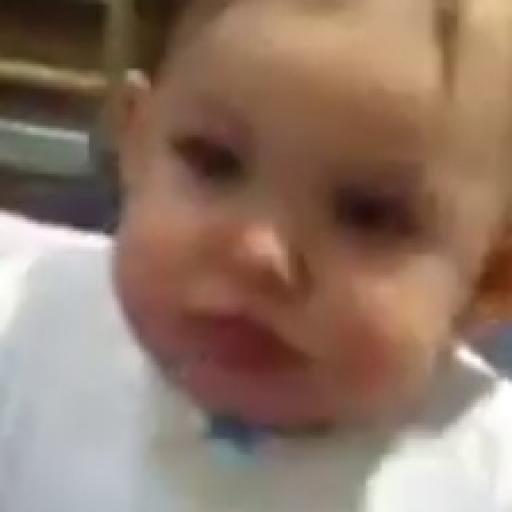Autism: (122, 48, 512, 424)
